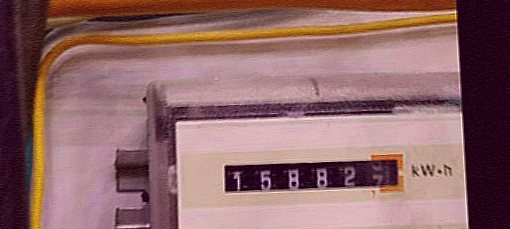1: (229, 169, 244, 192)
2: (340, 165, 358, 190)
5: (257, 168, 273, 193)
7: (371, 170, 383, 188)
8: (313, 167, 329, 191), (285, 168, 300, 192)
screen: (214, 146, 413, 212)
